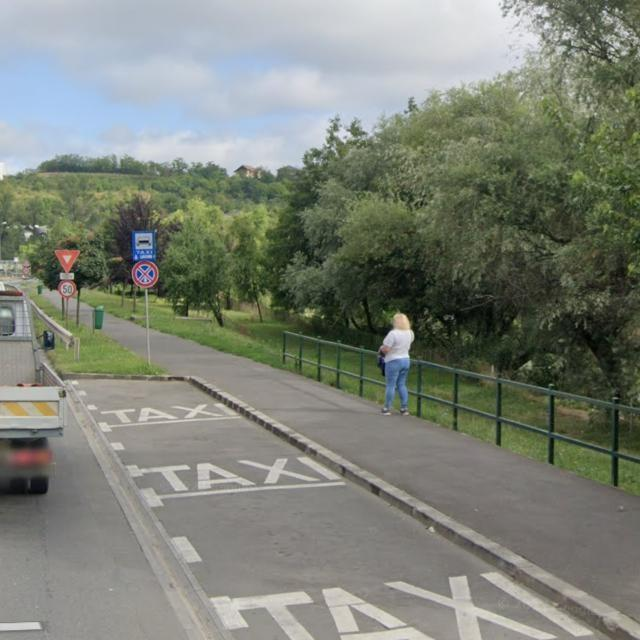forb_speed_over_50: (59, 280, 77, 298)
forb_waiting: (132, 261, 159, 287)
prio_give_way: (55, 250, 81, 273)
